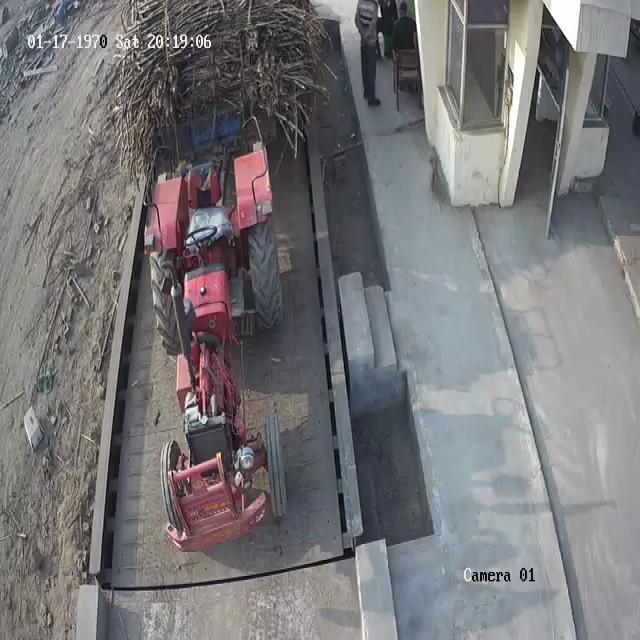Tratores - v5 YOLO V8L 2024-11-13: (145, 142, 291, 552)
